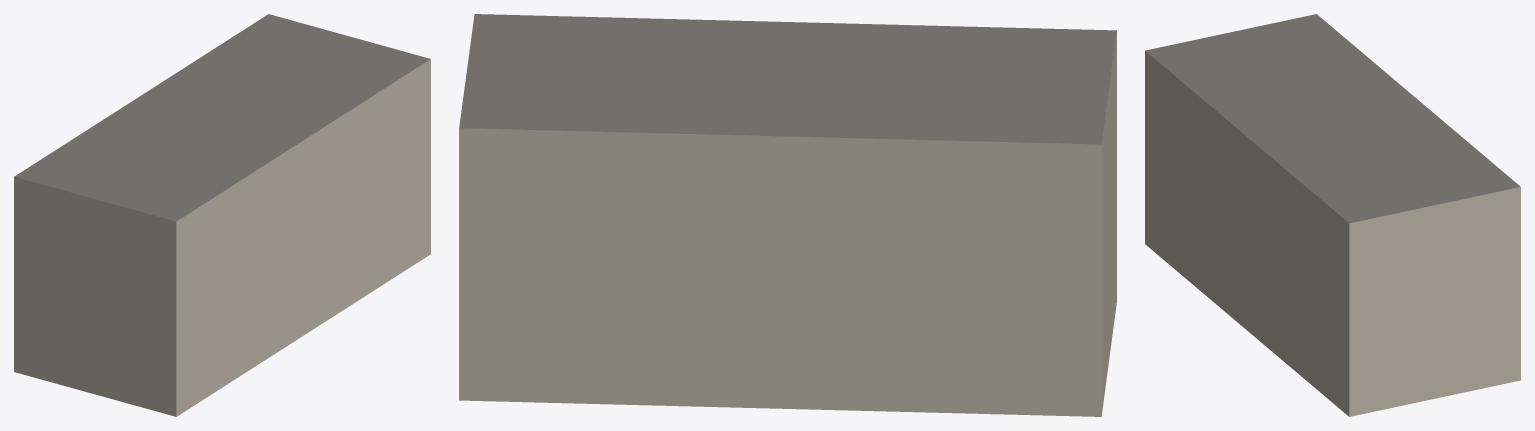
3 renders of one model, left to right at view 1: azimuth 30°, elevation 25°; view 2: azimuth 150°, elevation 25°; view 3: azimuth 270°, elevation 25°, orthographic. The views are drawn at different scales.
Visible parts, largest first — view 1: HP-w1287261386; view 2: HP-w1287261386; view 3: HP-w1287261386.
Part boxes in pixels (box(x1,y1,x2,y2)): HP-w1287261386: box(14, 14, 430, 416); HP-w1287261386: box(459, 14, 1116, 416); HP-w1287261386: box(1145, 14, 1520, 416).
Bounding box in the file's own units: 41.77 × 18 × 31.69.
